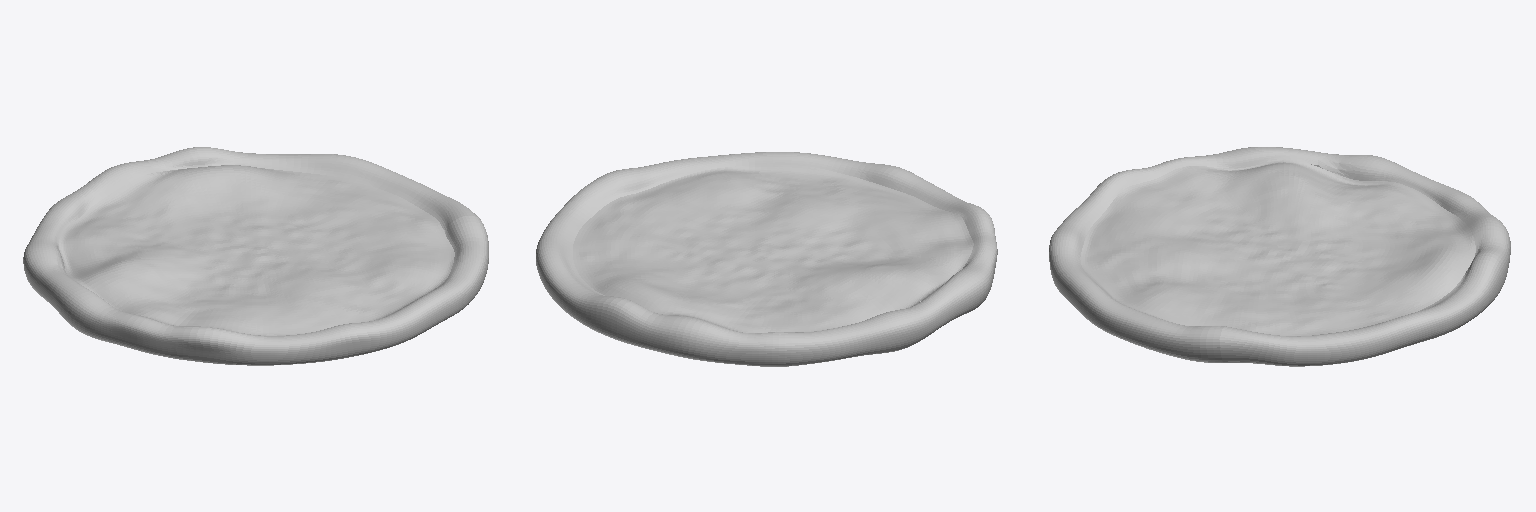
The model's file is piza.obj.
The picture shows the model from 3 angles: view 1: azimuth 30°, elevation 25°; view 2: azimuth 150°, elevation 25°; view 3: azimuth 270°, elevation 25°; orthographic projection.
Visible parts, largest first — view 1: piza_low_01:Group259; view 2: piza_low_01:Group259; view 3: piza_low_01:Group259.
Boxes of the visible parts, <box> form: piza_low_01:Group259: <box>23,147,488,365</box>; piza_low_01:Group259: <box>536,152,997,366</box>; piza_low_01:Group259: <box>1049,147,1510,366</box>.
Bounding box in the file's own units: 4.91 × 0.488 × 4.9.